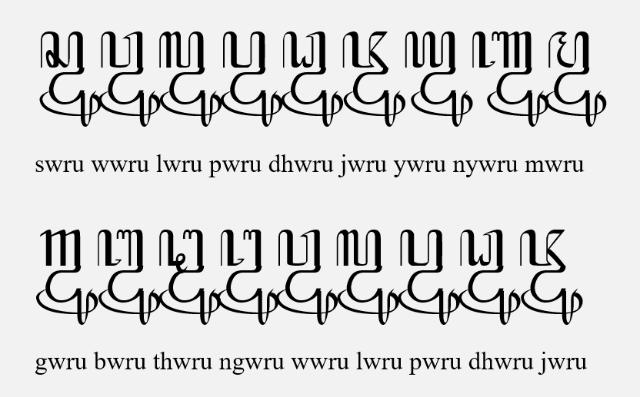bwru: (97, 229, 161, 325)
dhwru: (280, 31, 344, 127), (458, 229, 520, 325)
gwru: (36, 230, 98, 326)
jwru: (342, 31, 406, 128), (520, 228, 582, 326)
lwru: (158, 31, 222, 128), (336, 229, 398, 325)
mwru: (546, 31, 606, 127)
ngwru: (218, 229, 278, 325)
nywru: (472, 31, 548, 128)
pwru: (220, 31, 282, 127), (398, 229, 460, 325)
swru: (39, 31, 101, 128)
thwru: (157, 230, 220, 327)
wwru: (99, 32, 161, 128), (276, 229, 338, 325)
ywru: (404, 31, 472, 128)
